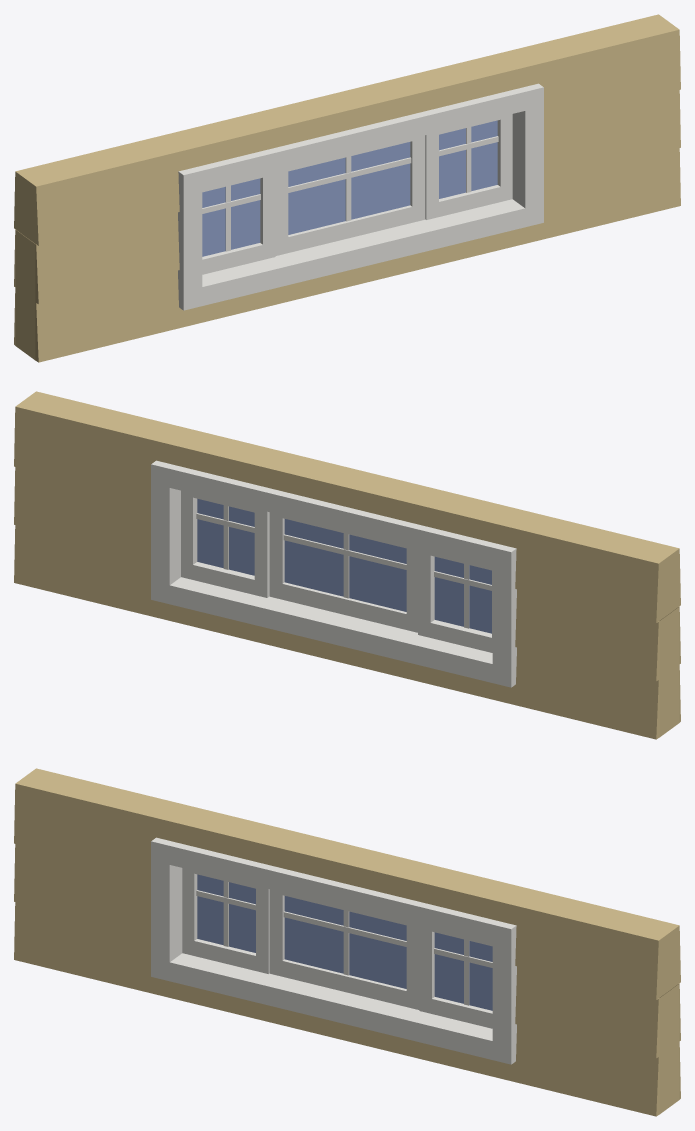
The model's file is Window03_house4.fbx.
3 views of the same model, one above another, from view 1: azimuth 30°, elevation 25°; view 2: azimuth 150°, elevation 25°; view 3: azimuth 330°, elevation 25° (orthographic).
Parts seen in each view (by area): view 1: Window03_house04; view 2: Window03_house04; view 3: Window03_house04.
Part boxes in pixels (x1=…): Window03_house04: x1=14, y1=14, x2=680, y2=362; Window03_house04: x1=14, y1=391, x2=680, y2=739; Window03_house04: x1=14, y1=768, x2=680, y2=1116.
Size of the model in its own units: 547 by 142 by 47.75.
